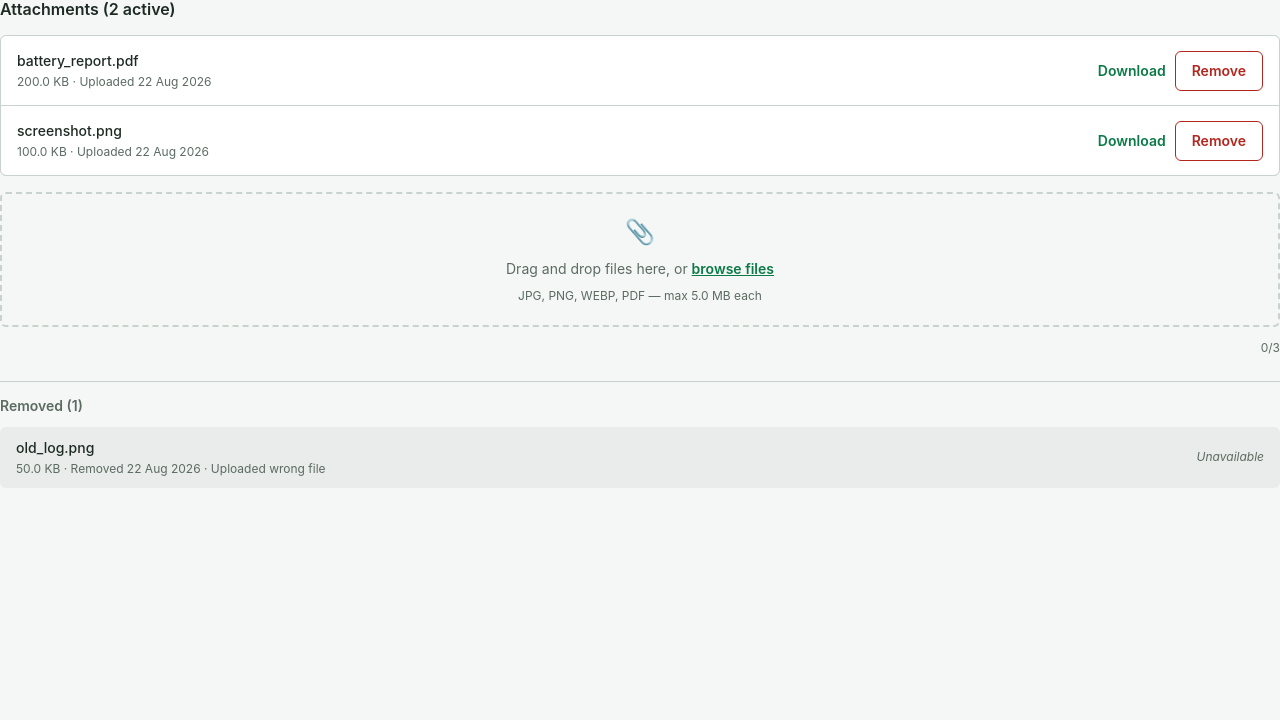
UI-14 — Remove confirmation flow (AC-19, AC-20) › Cancel closes the dialog without removing
What coordinates should you click on to do the following:
click the button "Remove" in the row of "battery_report.pdf"
I would click on:
 (1219, 71)
Its box is [1175,51,1263,91].
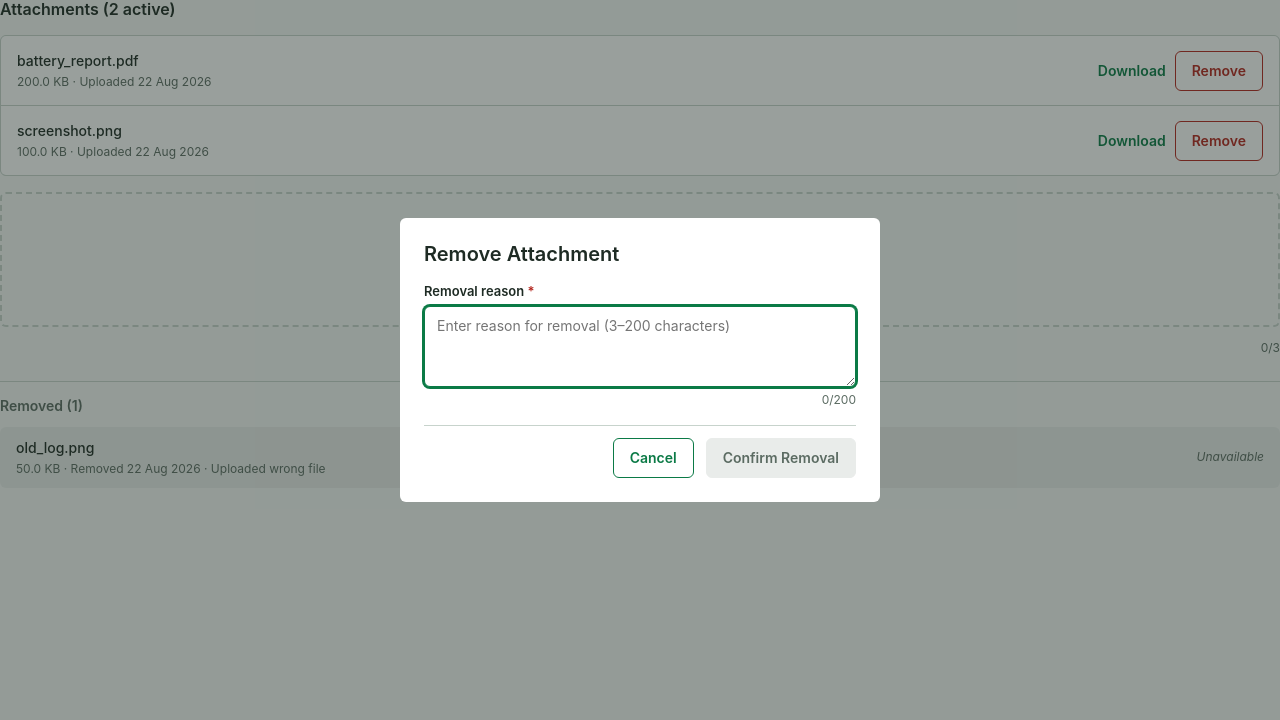
Expected: the heading "Remove Attachment" is shown, [424,242,619,266]
What coordinates should you click on to do the following:
click the button "Cancel"
I would click on:
 (653, 458)
Its box is [613,438,694,478].
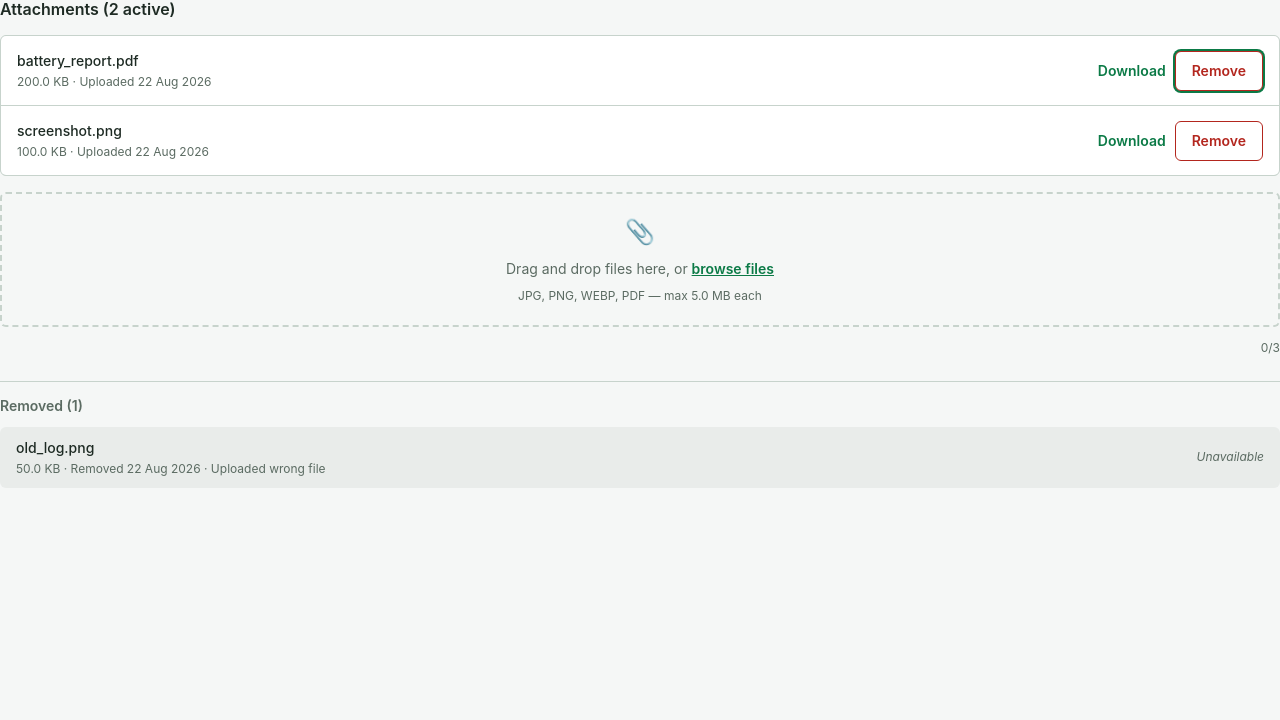
Expected: the heading "Remove Attachment" is gone
